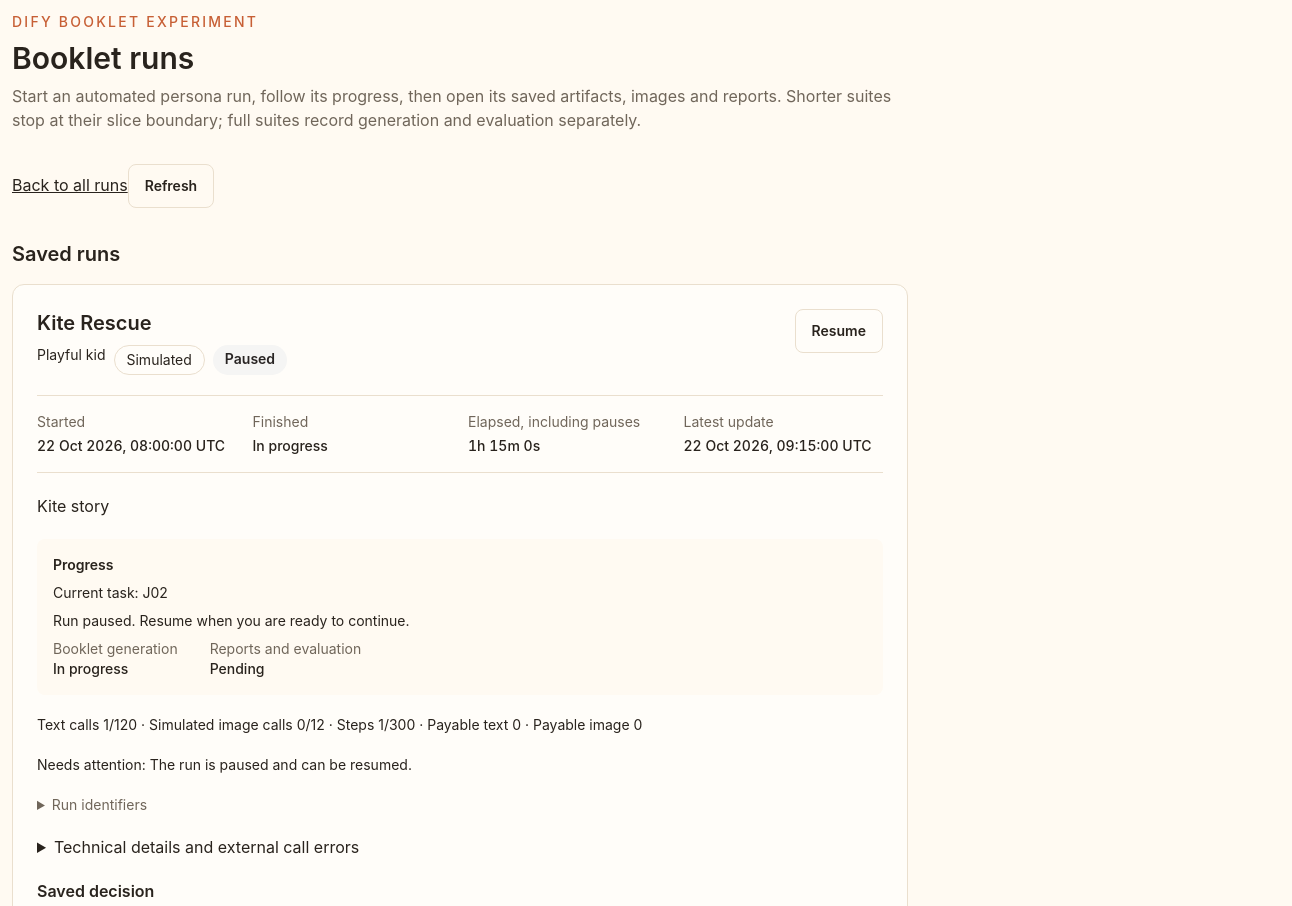
Test: booklet runner inspector › keeps mutations disabled after failed reconciliation until a successful refresh
Step 1. Click the button "Resume" → (839, 331), box [795,309,883,353]
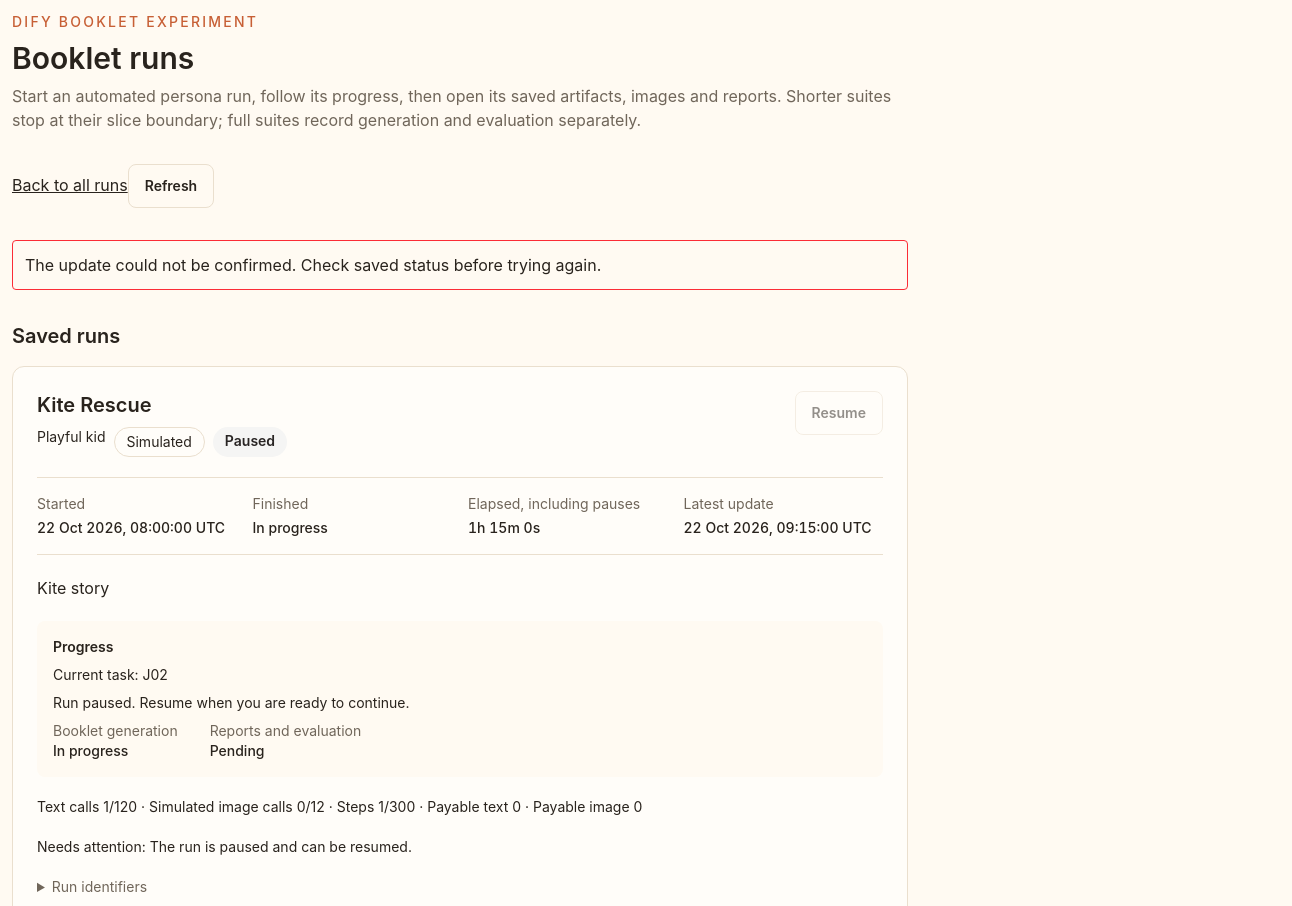
Expected: the text "The update could not be confirmed. Check saved status before trying again." is shown, [12,240,908,290]
Expected: the button "Resume" is disabled, [795,391,883,435]
Step 2. Click the button "Refresh" → (171, 186), box [128,164,214,208]
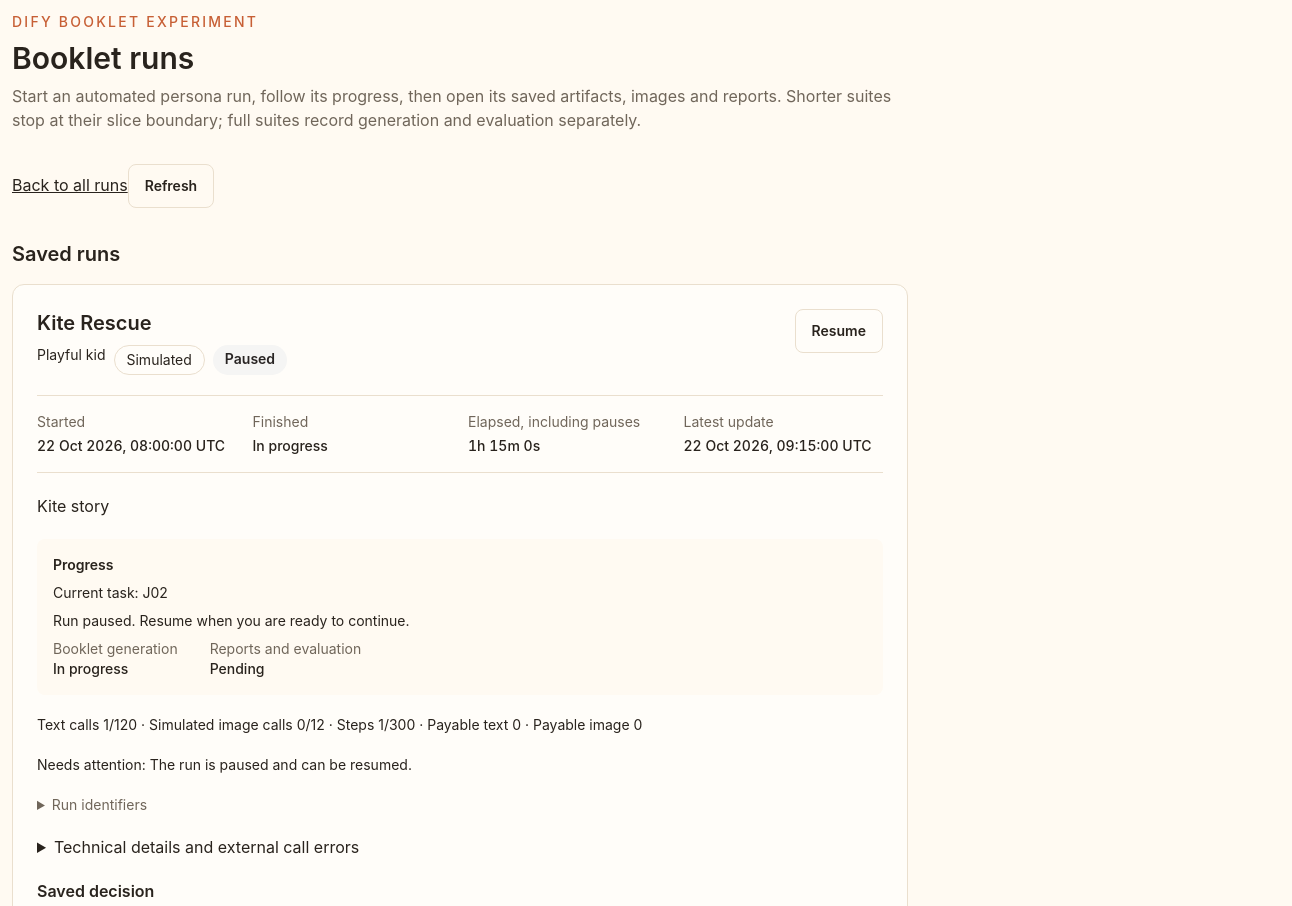
Expected: the button "Resume" is enabled, [795,309,883,353]
